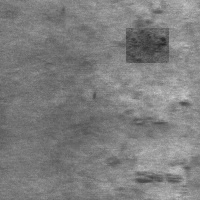rolled-in_scale: (117, 94, 191, 189), (116, 16, 191, 48), (126, 28, 169, 63)
